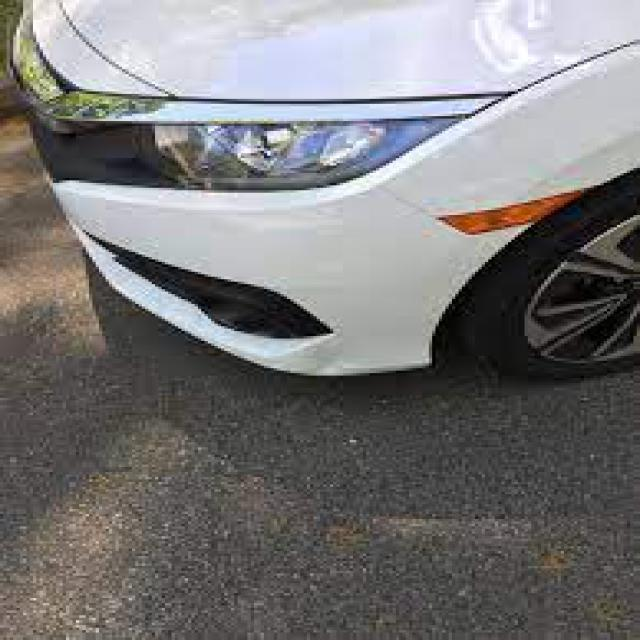front-bumper-dent: (13, 173, 614, 396)
